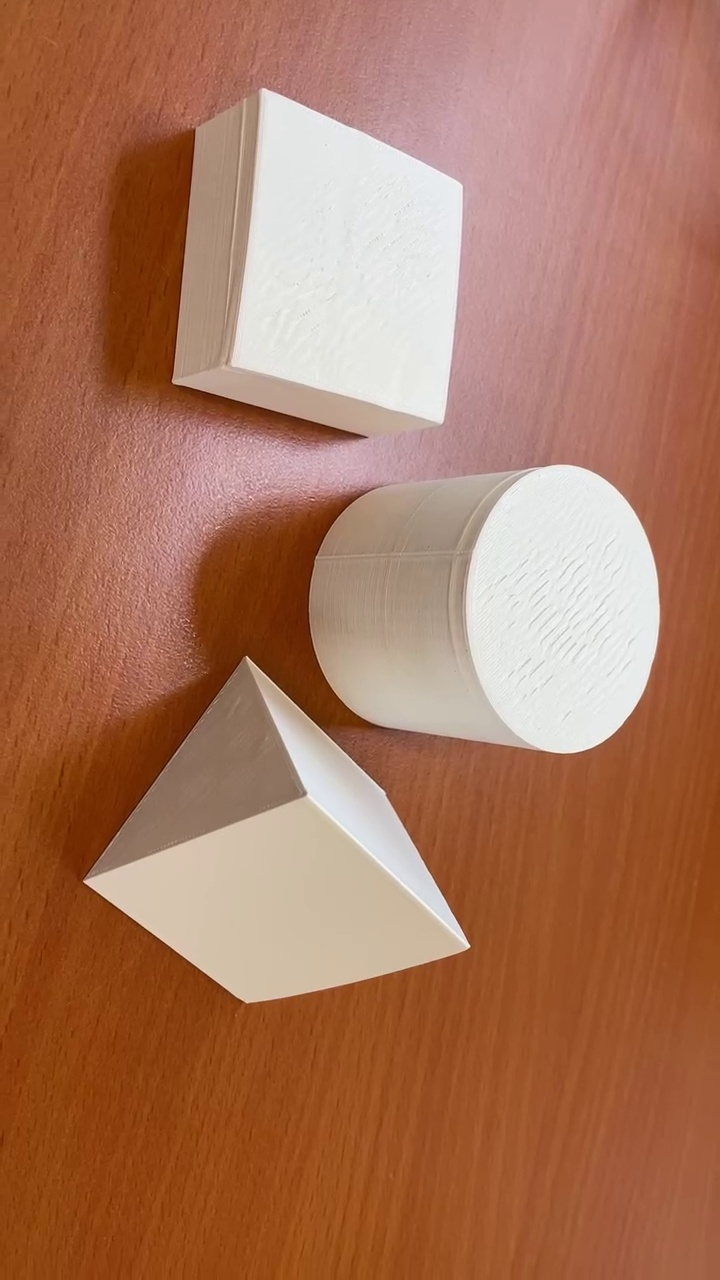Cube_short: (163, 86, 468, 439)
Cylinder: (308, 464, 663, 755)
Triangle: (74, 652, 470, 1002)
